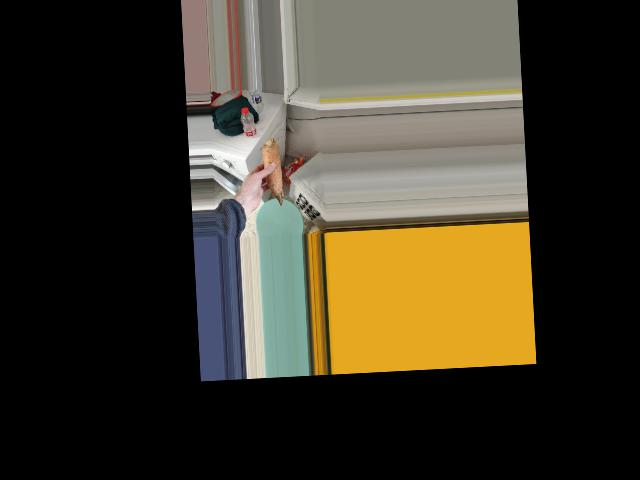sweet_potato: (260, 139, 282, 203)
